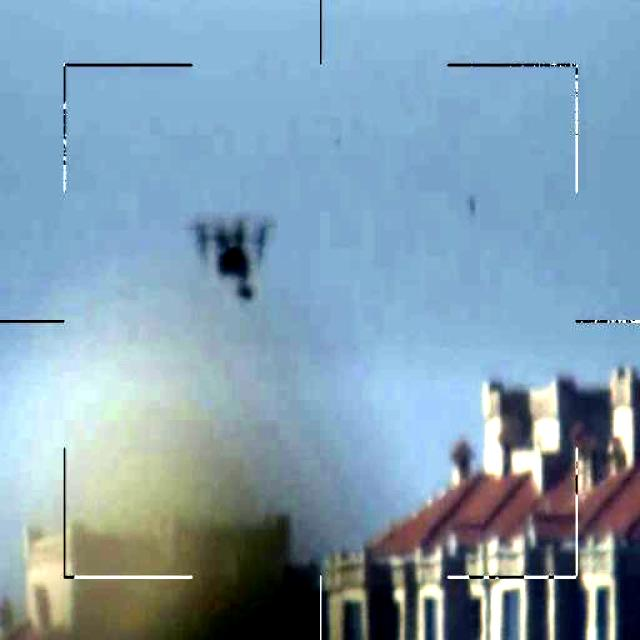bird: (192, 212, 274, 306)
